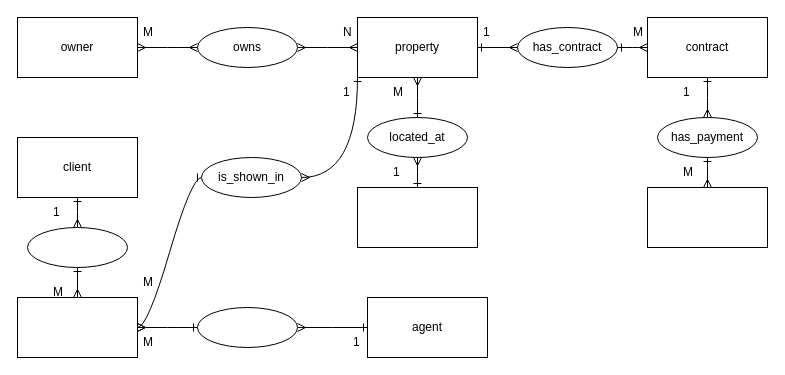
Some shapes in this 785 by 375 pixel diagram are drawn without their labels. Here are the shapes that lost their labels. From the top down, the centre of each, then its label:
pixel 417 217: address
pixel 707 217: payment
pixel 77 247: participates_in
pixel 77 327: showing
pixel 247 327: hosts
